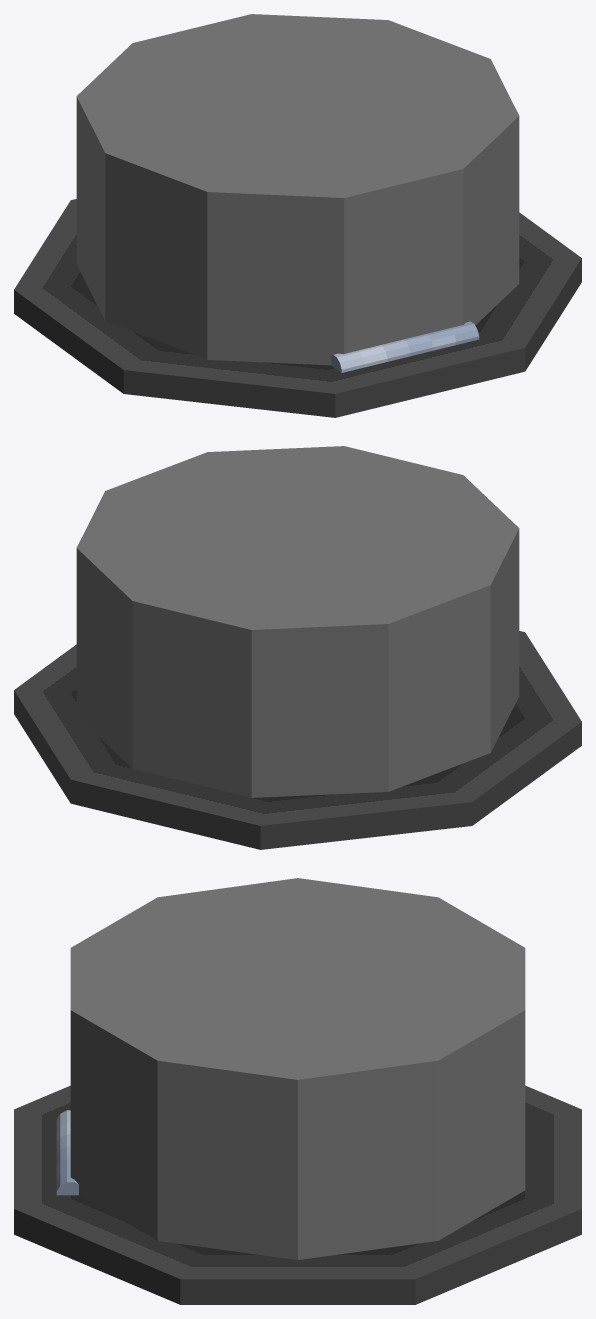
The model's file is button - merged.gltf.
The picture shows the model from 3 angles, top to bottom: view 1: azimuth 30°, elevation 25°; view 2: azimuth 150°, elevation 25°; view 3: azimuth 270°, elevation 25°; orthographic projection. The views are drawn at different scales.
Parts seen in each view (by area): view 1: hinge, base; view 2: hinge, base; view 3: hinge, base.
Part boxes in pixels (x1=…): hinge: x1=76, y1=14, x2=519, y2=372; base: x1=14, y1=199, x2=581, y2=417; hinge: x1=76, y1=446, x2=519, y2=797; base: x1=14, y1=631, x2=581, y2=849; hinge: x1=56, y1=878, x2=525, y2=1259; base: x1=14, y1=1085, x2=581, y2=1304.
Size of the model in its own units: 0.625 by 0.25 by 0.625.
5 materials, 5 textured.
